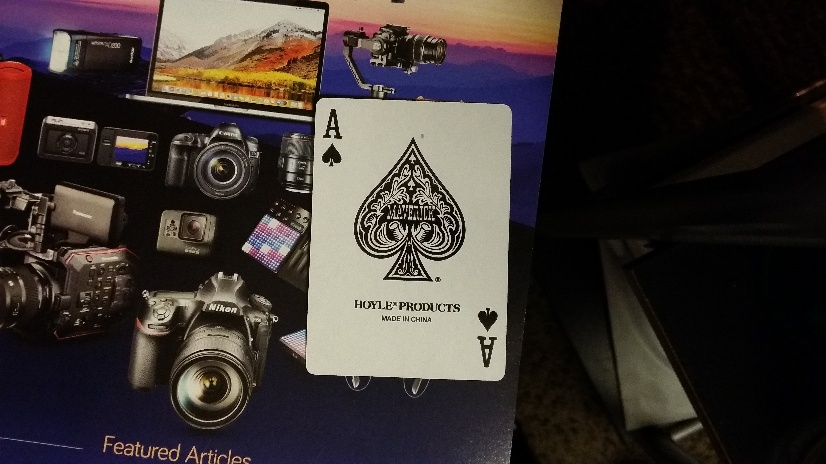Sa: (471, 303, 502, 372), (318, 107, 349, 173)
